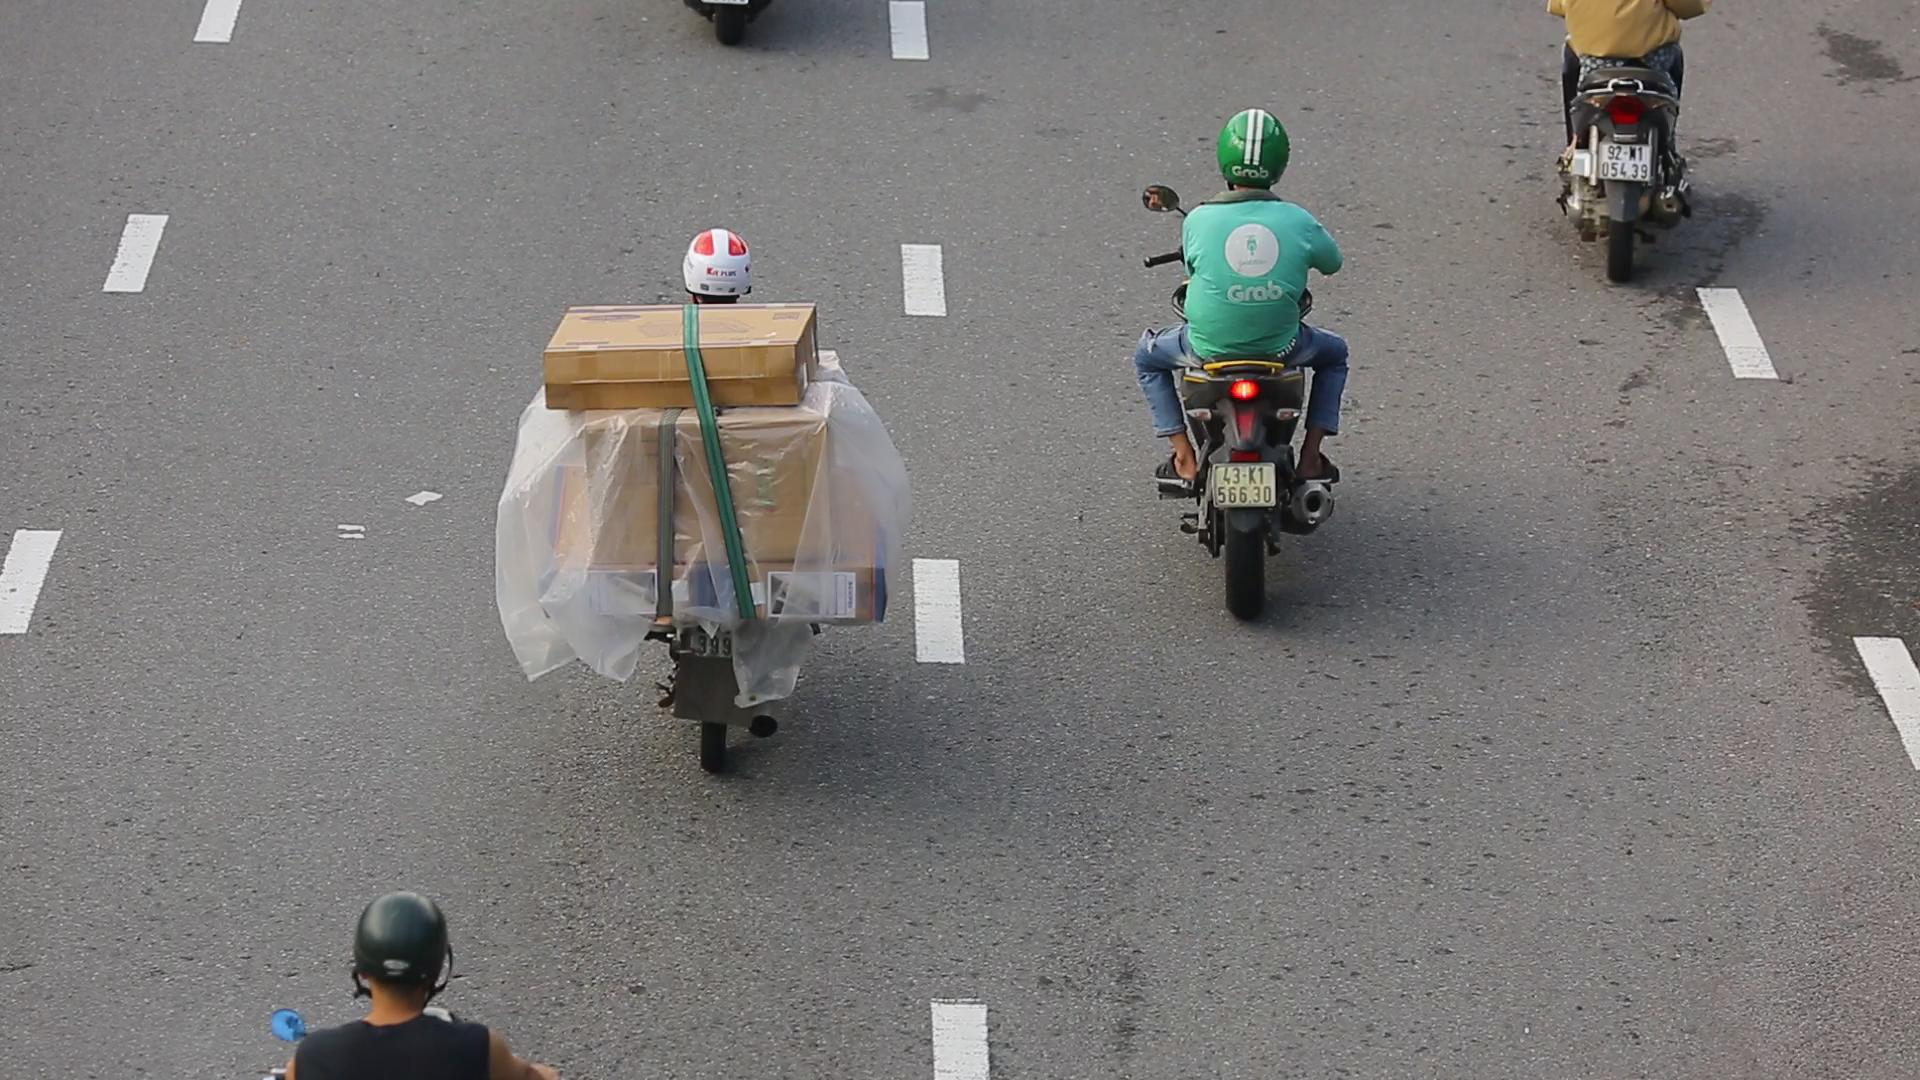motobike: (1130, 108, 1365, 637)
